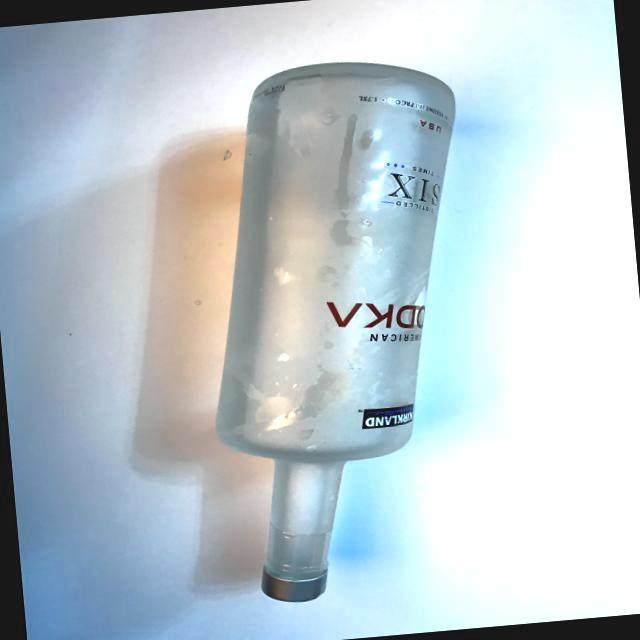glass: (174, 42, 514, 608)
